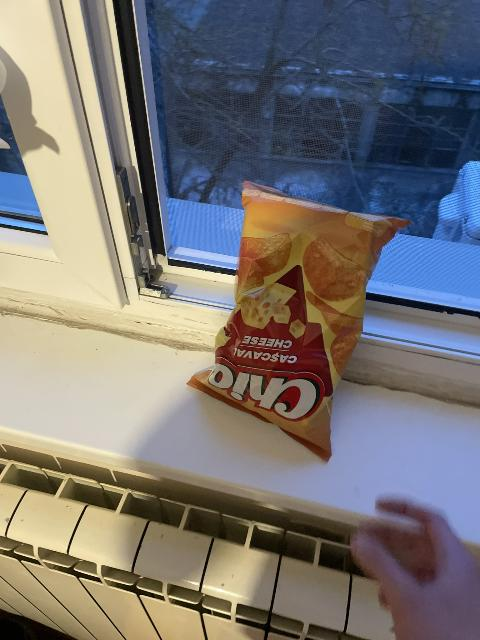Chio Cascaval 125g: (187, 177, 404, 464)
